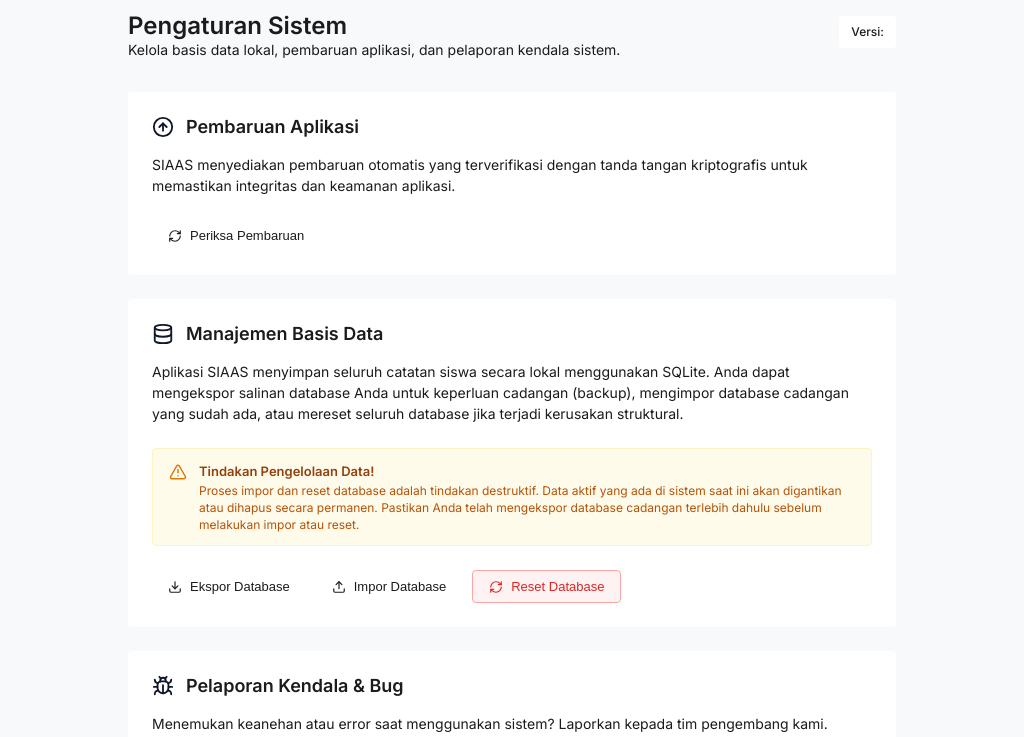
Test: PengaturanView › exports database inside Tauri environment successfully
Click the button with test id "export-db-button": (229, 587) top-left (152, 570), bottom-right (306, 603)
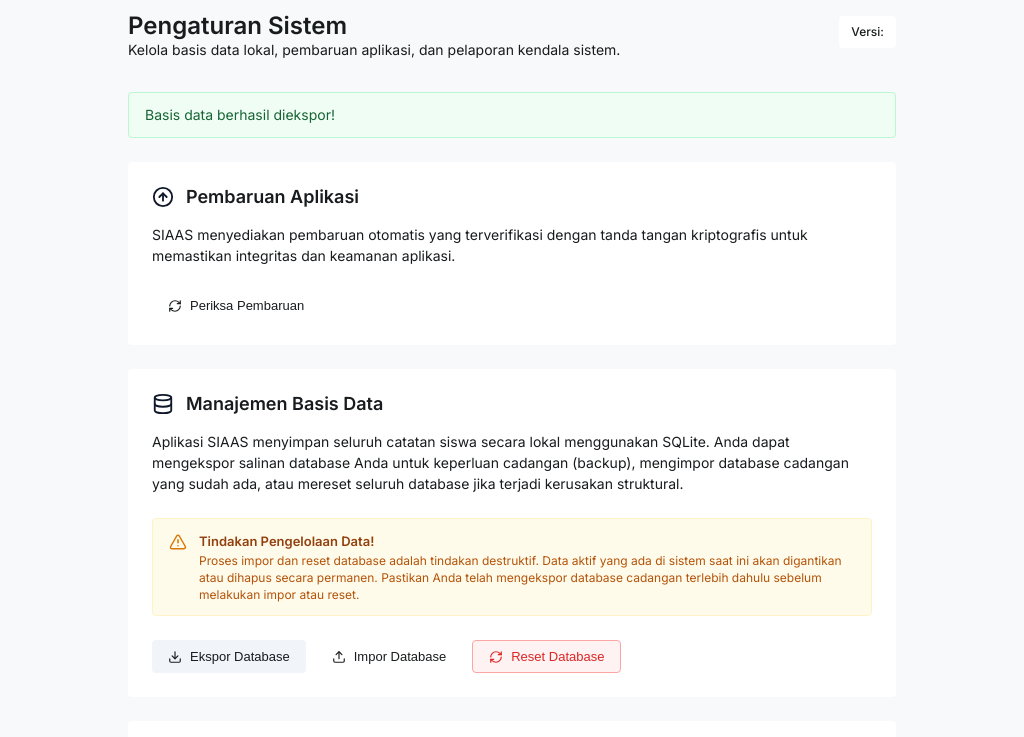
expect the text "Basis data berhasil diekspor!" is shown: met, box top-left (128, 92), bottom-right (896, 138)
